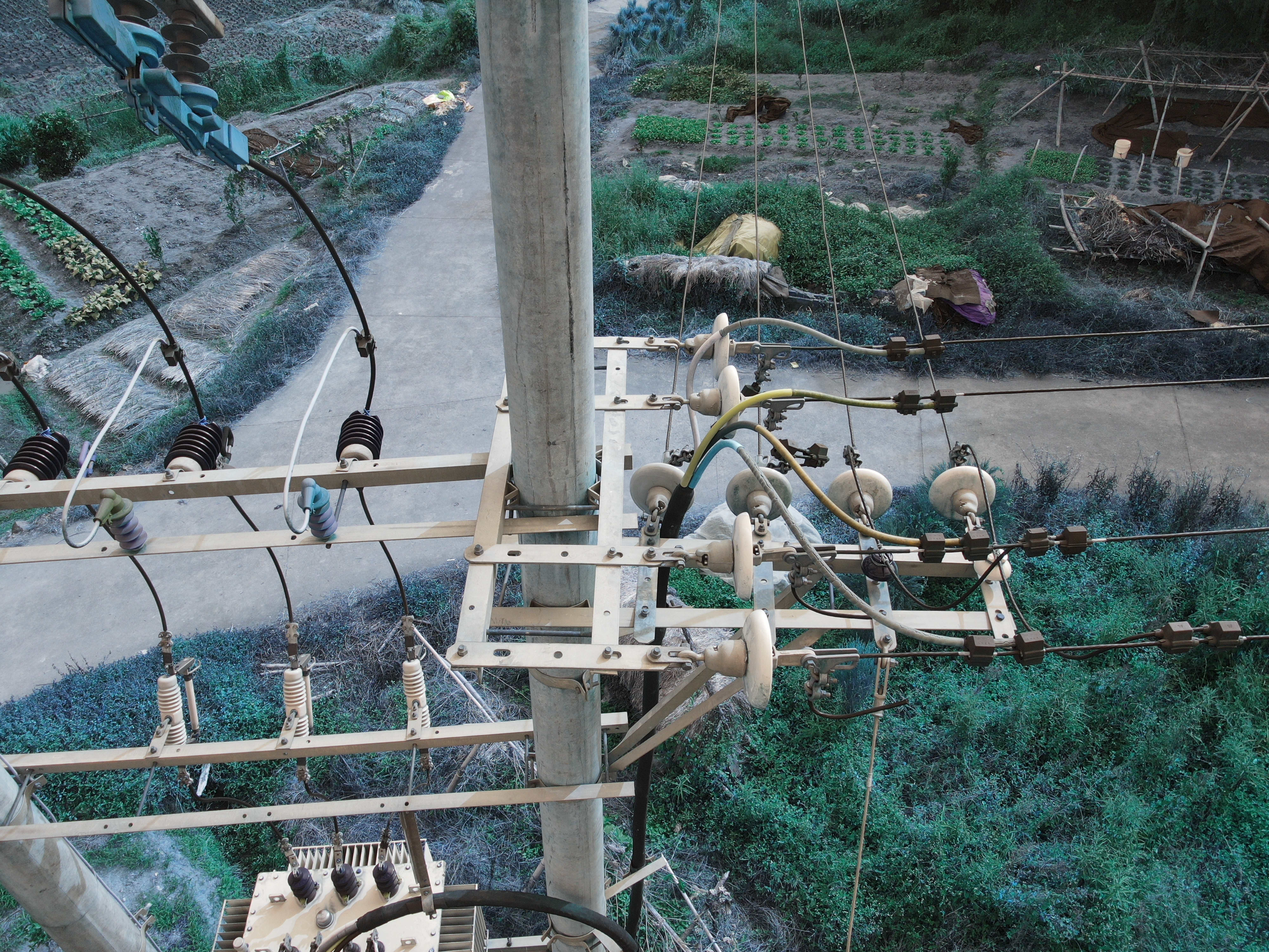severe_soiling_no_discharge_whole: (722, 465, 794, 523), (827, 469, 895, 524), (928, 466, 996, 520)
